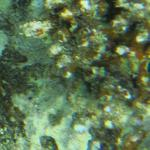dead: (1, 2, 147, 148)
